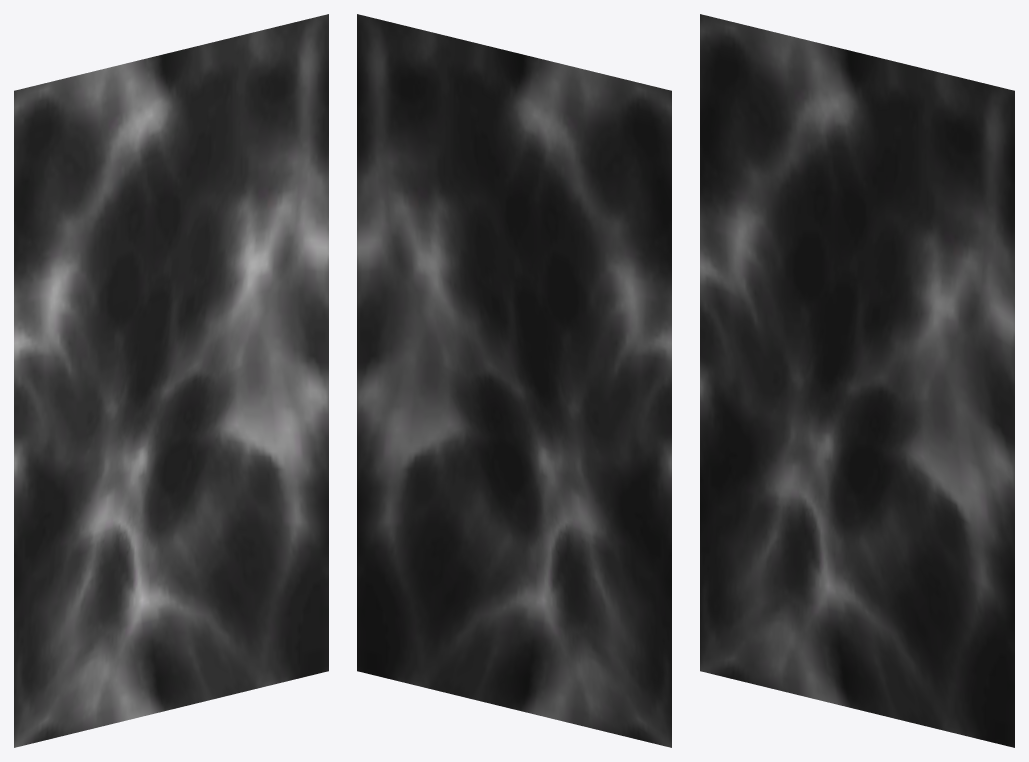
Rendered from qupingmian_damen.fbx.
3 views of the same model, side by side, from view 1: azimuth 30°, elevation 25°; view 2: azimuth 150°, elevation 25°; view 3: azimuth 330°, elevation 25° (orthographic).
Visible parts, largest first — view 1: qupingmian_damen; view 2: qupingmian_damen; view 3: qupingmian_damen.
Boxes of the visible parts, <box> form: qupingmian_damen: <box>14,14,328,747</box>; qupingmian_damen: <box>357,14,671,747</box>; qupingmian_damen: <box>700,14,1014,747</box>.
Size of the model in its own units: 17.36 by 34.62 by 4.22e-15.
